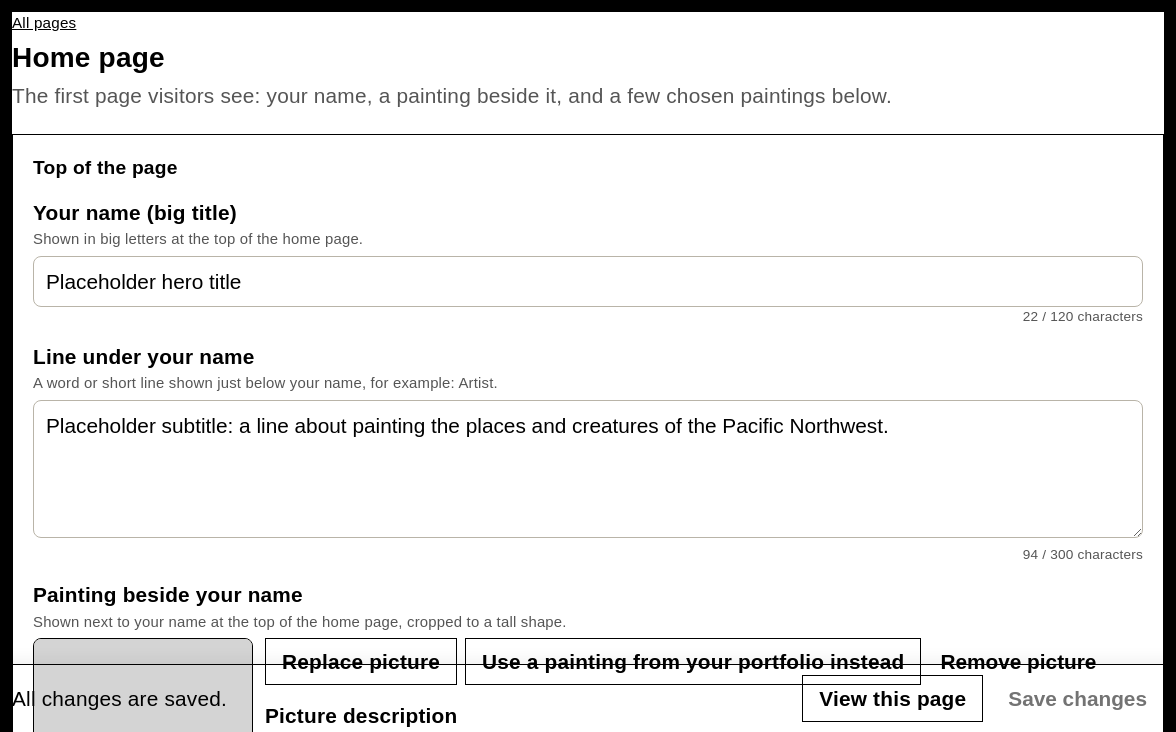
Scenario: page editor › keeps changes and explains a network failure
Type "?" into the field labelled "Your name (big title)" at (588, 281), box [33,256,1143,307]
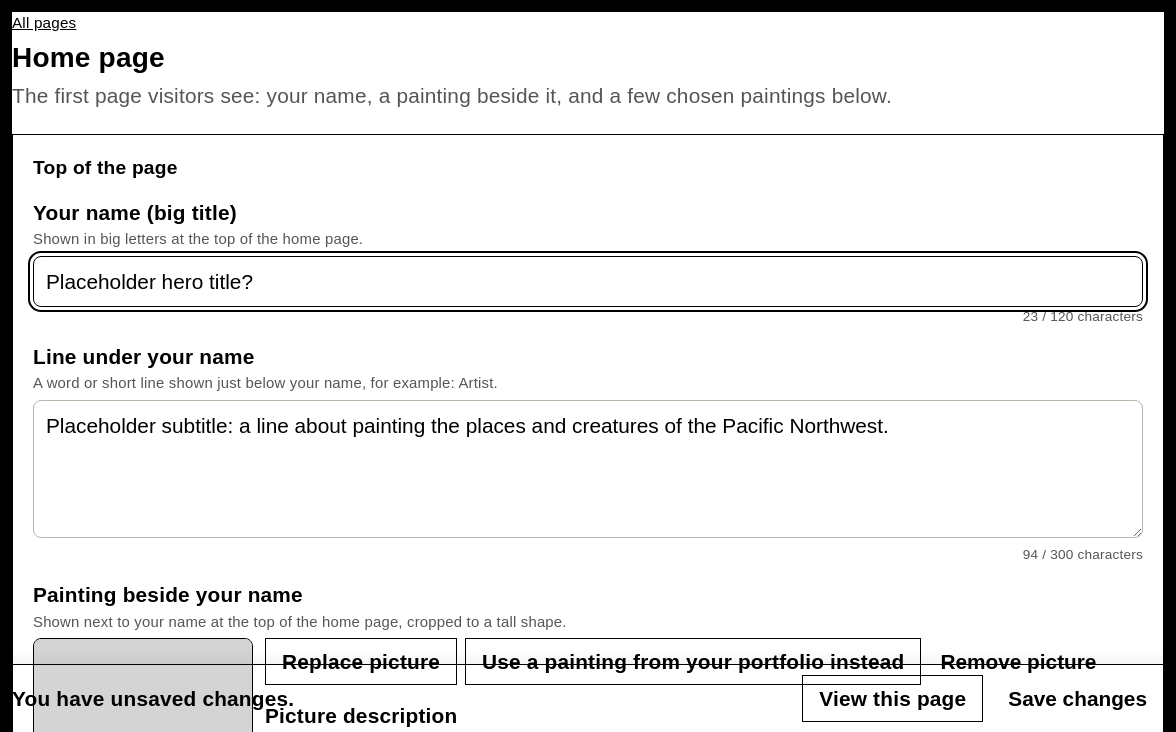
Click the button "Save changes" at (1078, 698), box [991,675,1164,722]
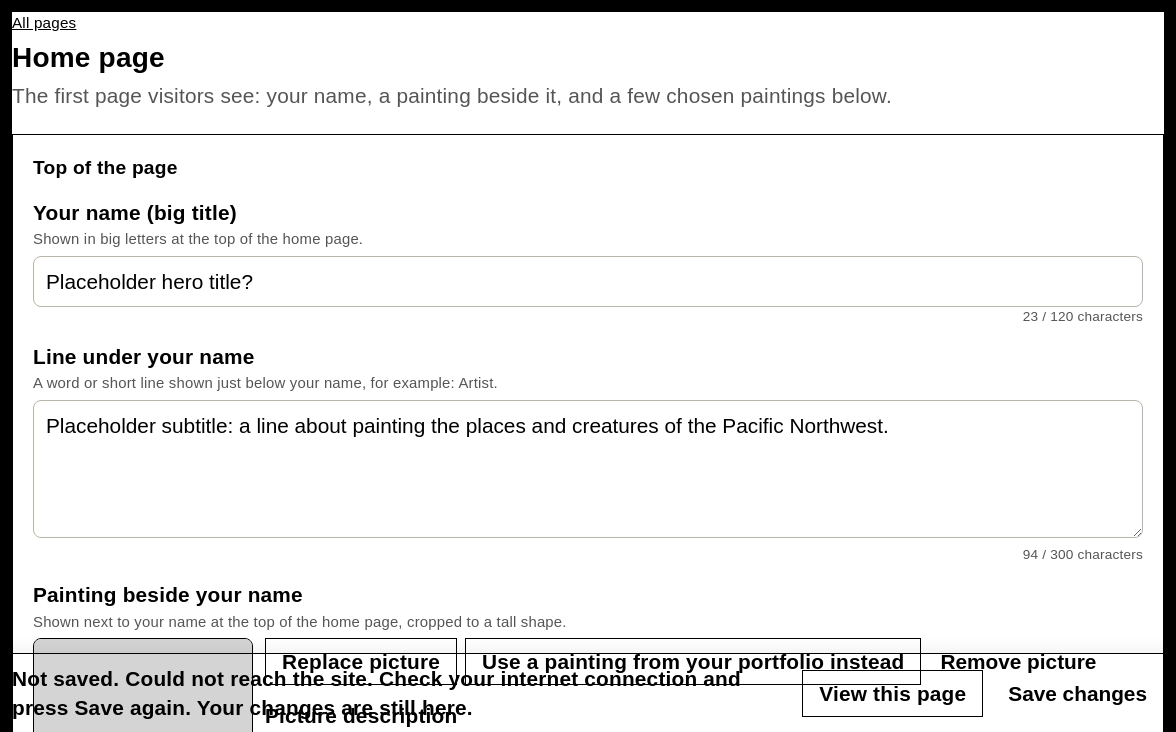
Now the message with test id "save-status" shows "Your changes are still here", box [12,667,741,719]
